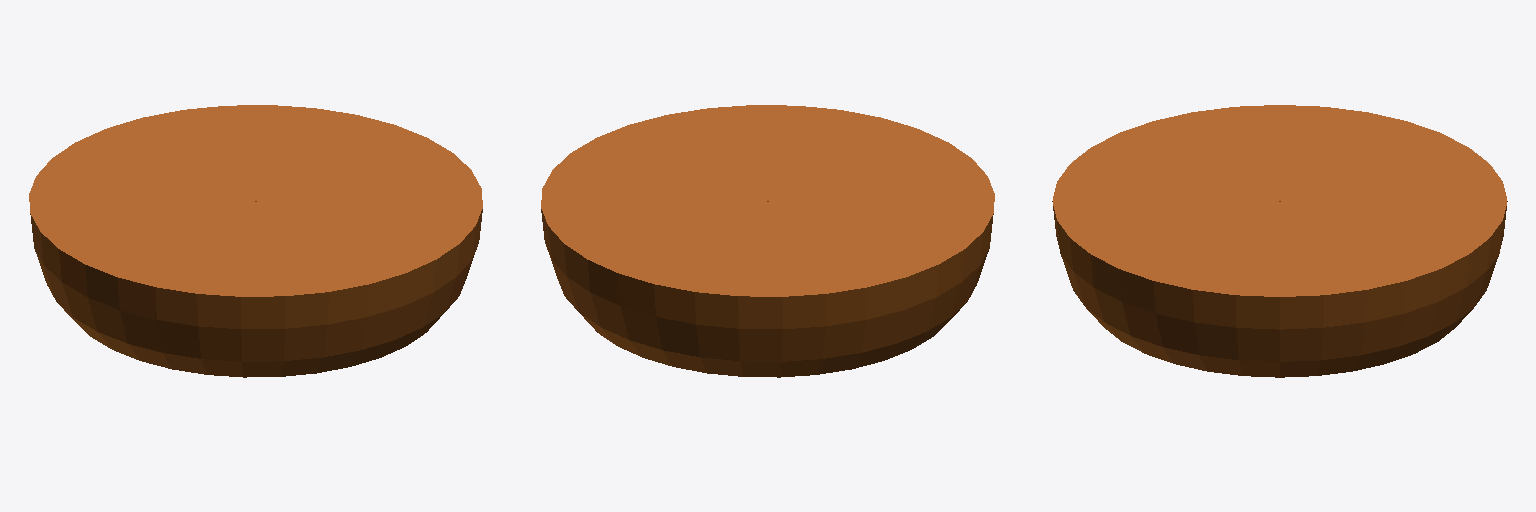
File: BunBt.obj
The picture shows the model from 3 angles: view 1: azimuth 30°, elevation 25°; view 2: azimuth 150°, elevation 25°; view 3: azimuth 270°, elevation 25°; orthographic projection.
Visible parts, largest first — view 1: BottomBun_Sphere; view 2: BottomBun_Sphere; view 3: BottomBun_Sphere.
Part boxes in pixels (bbox=[...]): BottomBun_Sphere: bbox=[29, 105, 482, 377]; BottomBun_Sphere: bbox=[541, 105, 994, 377]; BottomBun_Sphere: bbox=[1052, 105, 1507, 377].
Size of the model in its own units: 1.99 by 0.5318 by 1.99.